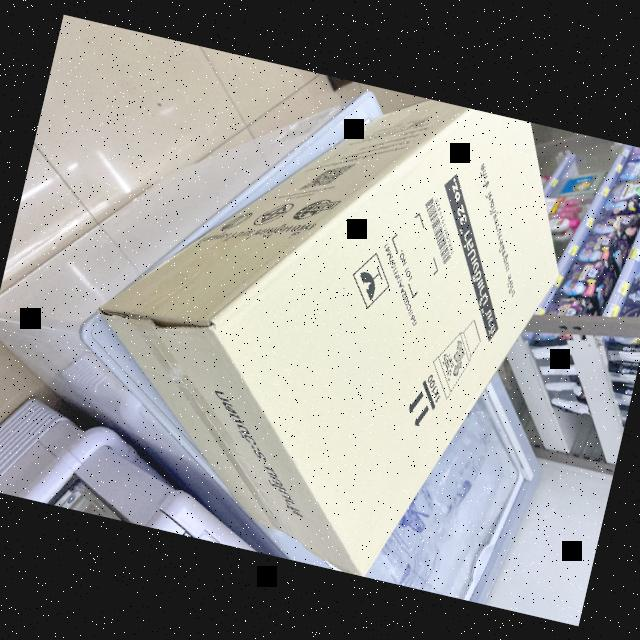cardboard_box: (92, 101, 567, 576)
